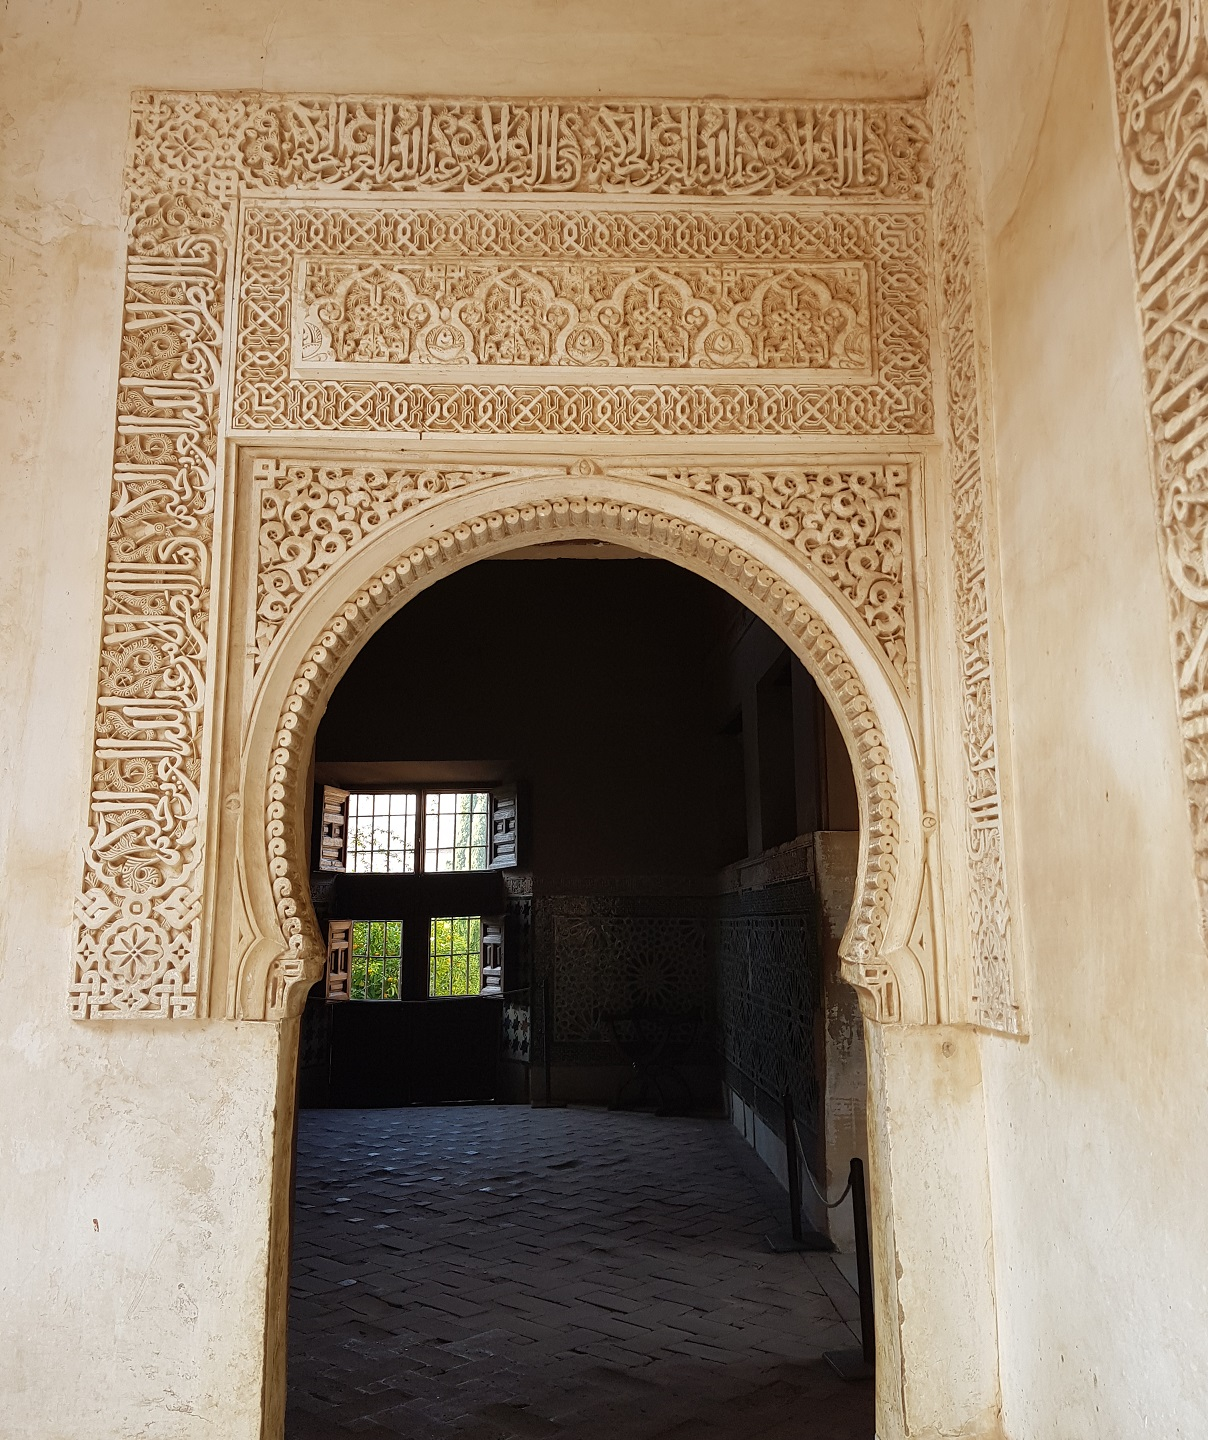arco-herradura: (249, 467, 923, 1069)
